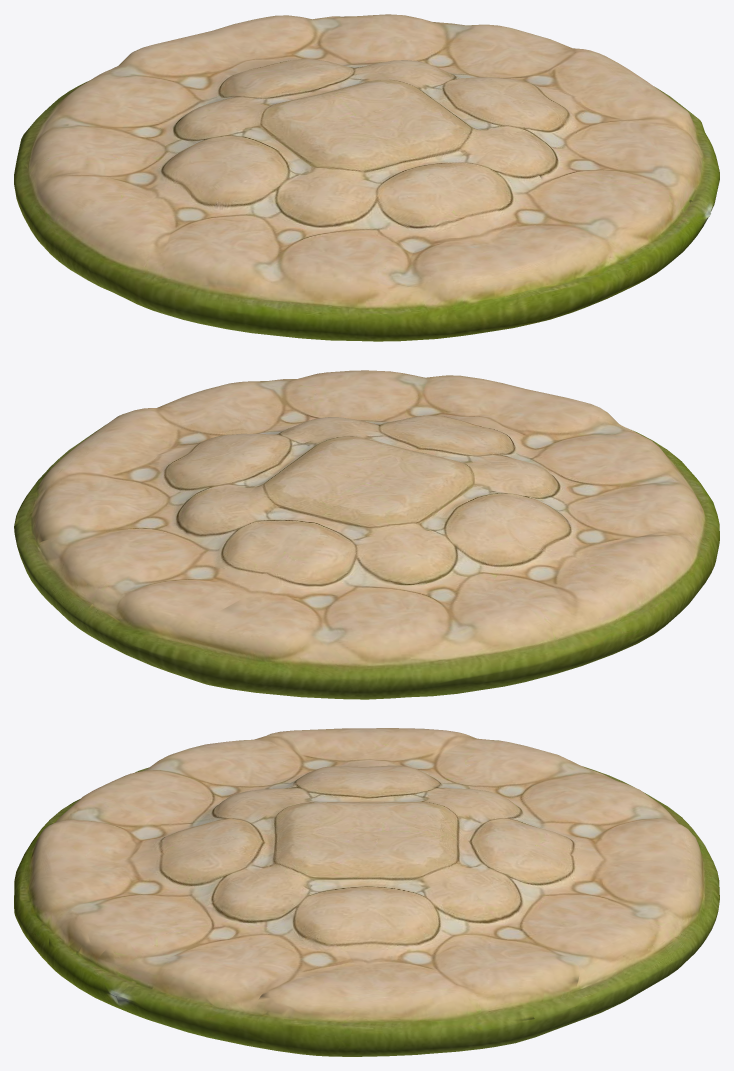
Rendered from cluster-paving.glb.
The picture shows the model from 3 angles, top to bottom: view 1: azimuth 30°, elevation 25°; view 2: azimuth 150°, elevation 25°; view 3: azimuth 270°, elevation 25°; orthographic projection.
Visible parts, largest first — view 1: Mesh_0; view 2: Mesh_0; view 3: Mesh_0.
Part boxes in pixels (x1,y1,x2,y2): Mesh_0: (14, 14, 719, 341); Mesh_0: (14, 370, 719, 699); Mesh_0: (14, 728, 719, 1056).
Bounding box in the file's own units: 2 × 0.4168 × 2.
1 material, 1 textured.
